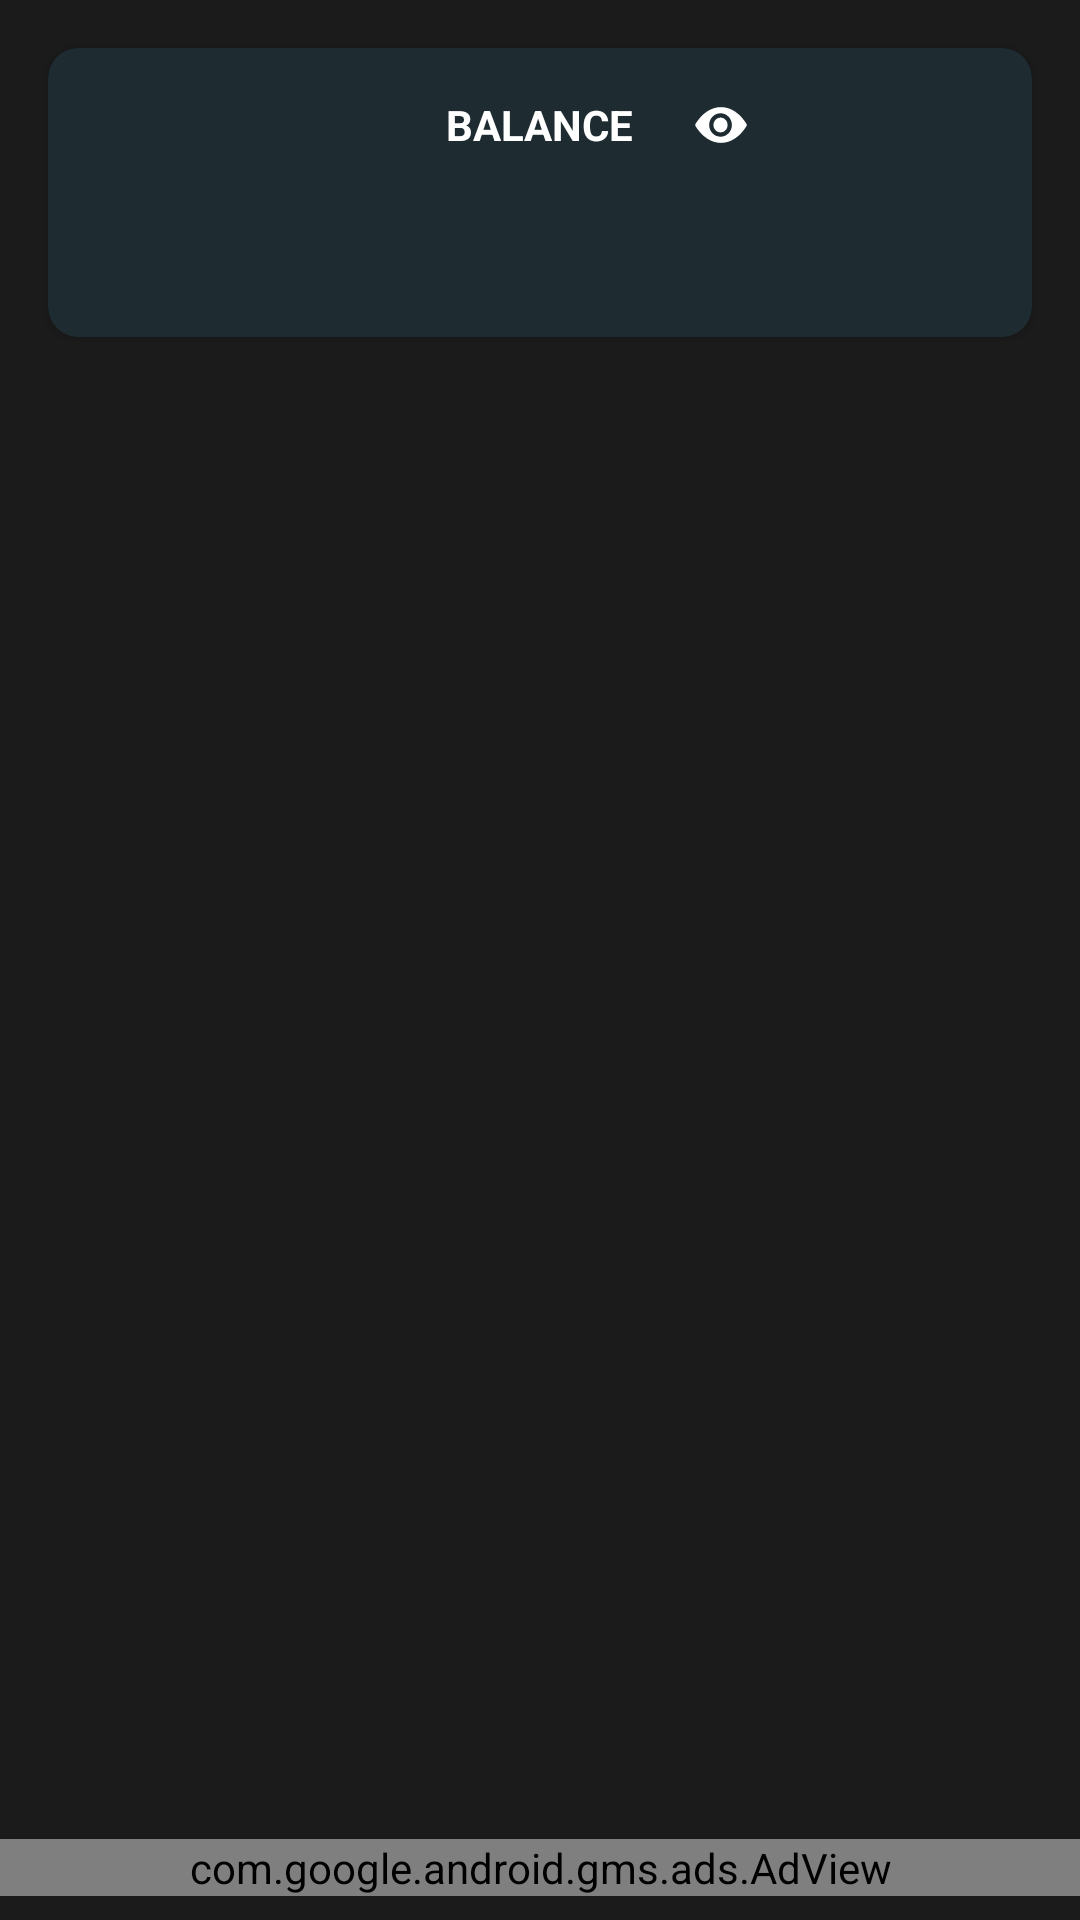

Where icons sit on this 1080px x 1920px app screen, as (x1, y1, x2, y2):
eye open: (695, 107, 747, 143)
